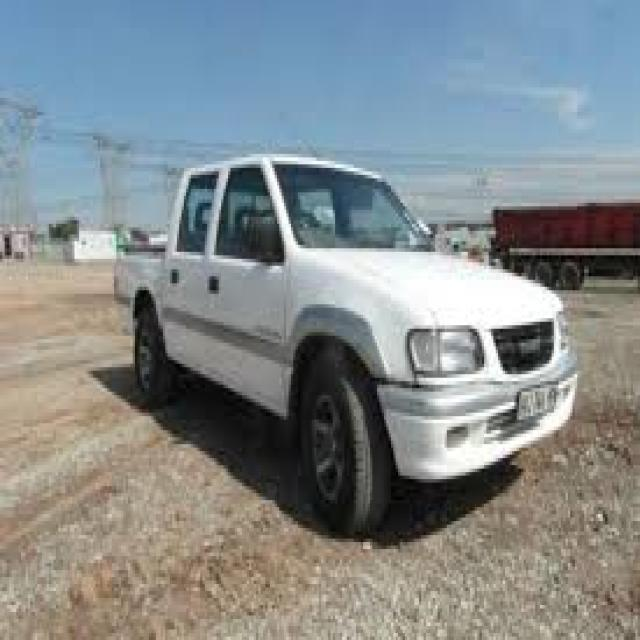Pickup Trucks: (128, 161, 579, 535)
